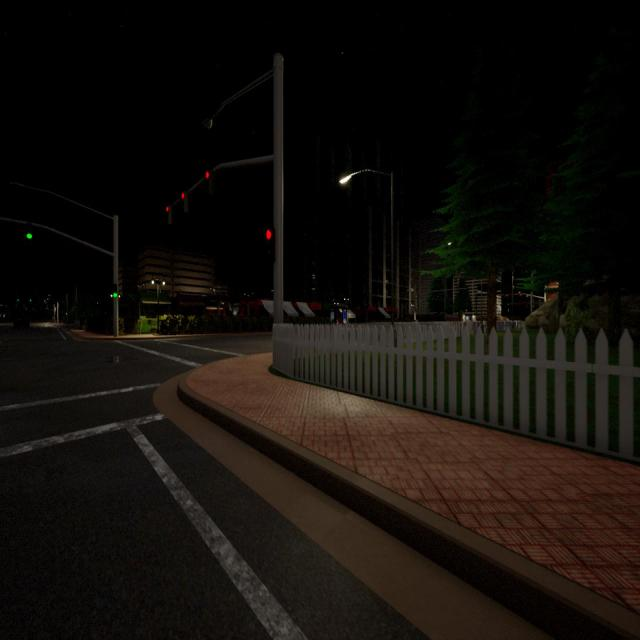Vehicle: (12, 311, 30, 332)
traffic_light: (264, 227, 276, 264), (204, 170, 212, 196), (179, 190, 187, 213), (164, 204, 172, 226), (26, 222, 32, 240), (112, 283, 118, 298), (29, 299, 32, 302), (519, 293, 522, 296), (66, 312, 68, 315), (17, 299, 19, 301), (44, 300, 46, 302), (506, 294, 508, 296)
